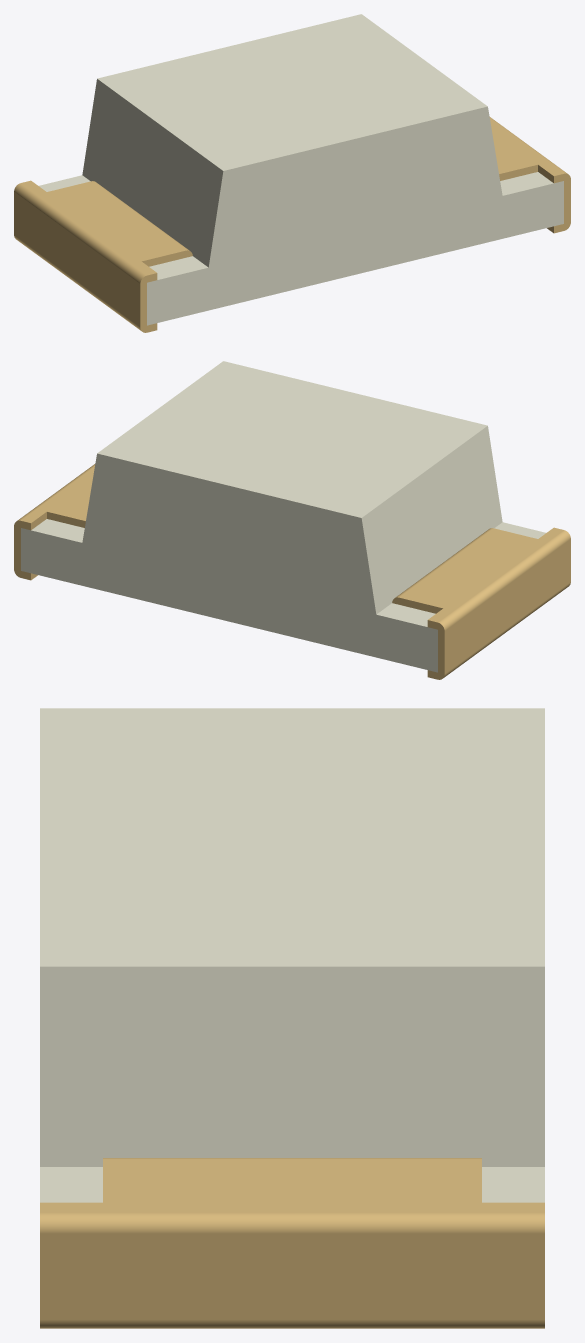
File: LED_2512.glb
3 renders of one model, top to bottom at view 1: azimuth 30°, elevation 25°; view 2: azimuth 150°, elevation 25°; view 3: azimuth 270°, elevation 25°, orthographic. The views are drawn at different scales.
Parts seen in each view (by area): view 1: =>[0:1:1:3]; view 2: =>[0:1:1:3]; view 3: =>[0:1:1:3].
Boxes of the visible parts, box(x1,y1,x2,y2) form: =>[0:1:1:3]: box(14, 14, 570, 332); =>[0:1:1:3]: box(14, 361, 570, 679); =>[0:1:1:3]: box(40, 708, 544, 1328).
Size of the model in its own units: 0.0063 by 0.002 by 0.0032.
